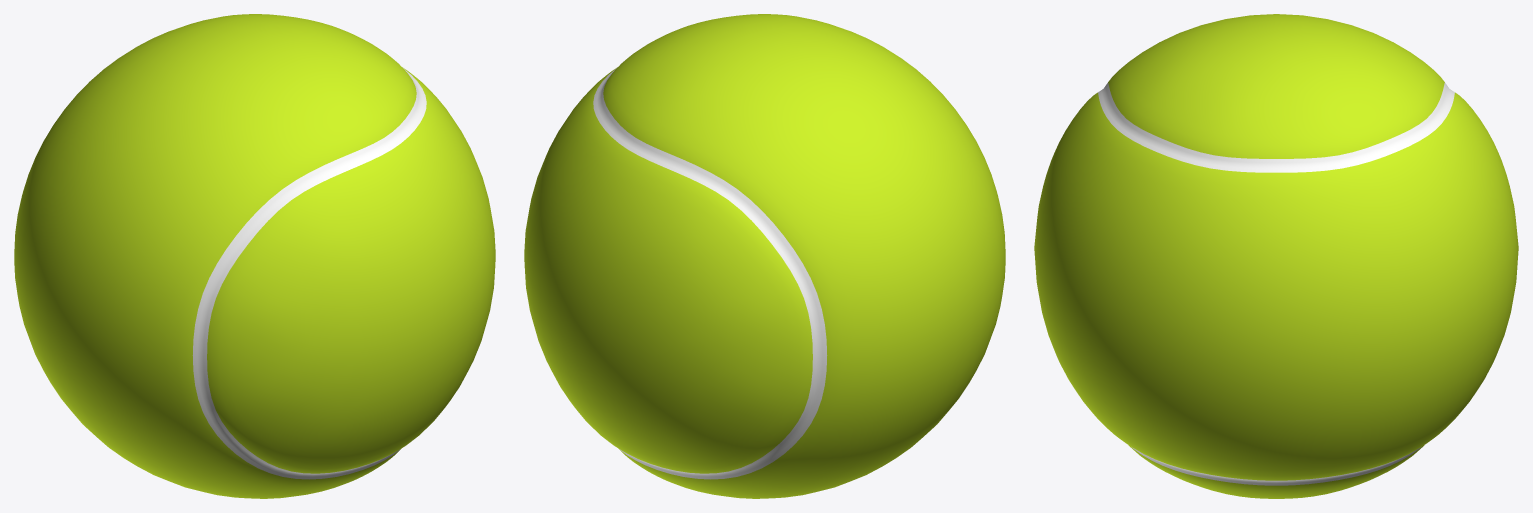
File: tennis_lime.dae
3 renders of one model, left to right at view 1: azimuth 30°, elevation 25°; view 2: azimuth 150°, elevation 25°; view 3: azimuth 270°, elevation 25°, orthographic.
Visible parts, largest first — view 1: SketchUp (×3); view 2: SketchUp (×3); view 3: SketchUp (×3).
Part boxes in pixels (<box>): SketchUp (×3): <box>14,14,495,498</box>; SketchUp (×3): <box>524,14,1005,498</box>; SketchUp (×3): <box>1034,14,1518,498</box>.
Size of the model in its own units: 2.5 by 2.51 by 2.51.
